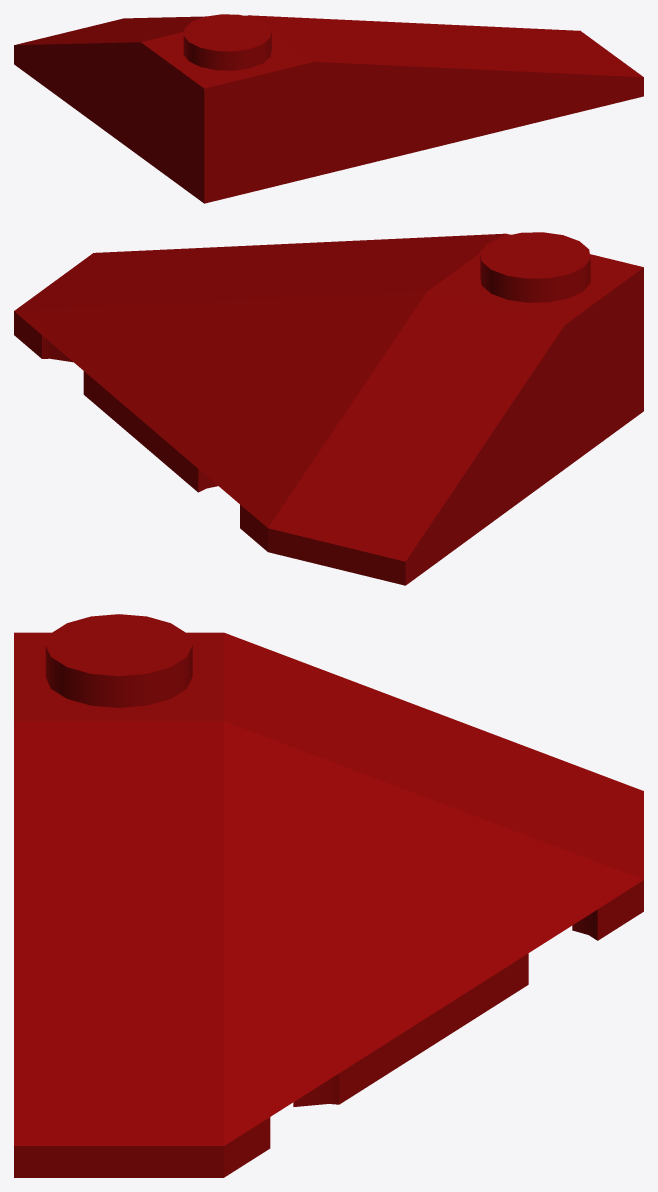
The model's file is SM_CornerRamp_4x3x1_L.gltf.
3 views of the same model, one above another, from view 1: azimuth 30°, elevation 25°; view 2: azimuth 150°, elevation 25°; view 3: azimuth 270°, elevation 25° (orthographic). The views are drawn at different scales.
Parts seen in each view (by area): view 1: SM_CornerRamp_4x3x1_L; view 2: SM_CornerRamp_4x3x1_L; view 3: SM_CornerRamp_4x3x1_L.
Boxes of the visible parts, bbox=[...] form: SM_CornerRamp_4x3x1_L: bbox=[14, 14, 643, 203]; SM_CornerRamp_4x3x1_L: bbox=[14, 232, 643, 585]; SM_CornerRamp_4x3x1_L: bbox=[14, 614, 643, 1177].
Bounding box in the file's own units: 1.2 × 0.35 × 0.9.
